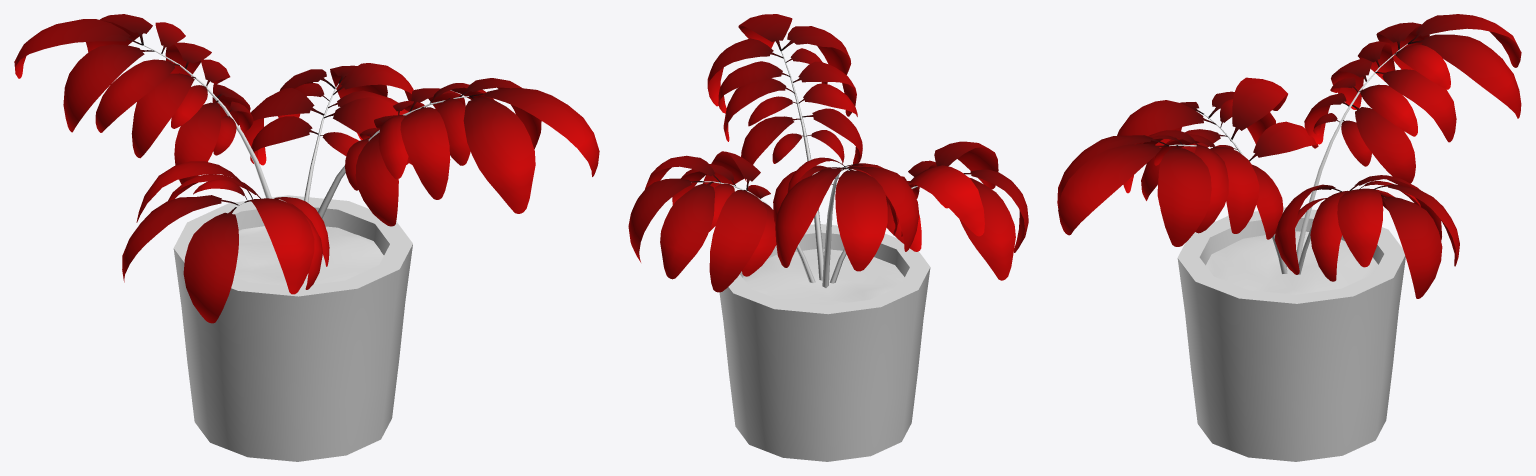
Rendered from Matero.fbx.
3 renders of one model, left to right at view 1: azimuth 30°, elevation 25°; view 2: azimuth 150°, elevation 25°; view 3: azimuth 270°, elevation 25°, orthographic. The views are drawn at different scales.
Visible parts, largest first — view 1: matero, leaf.023, materodirt, leaf, leaf.002, leaf.011, leaf.025, leaf.019, leaf.017, leaf.016, leaf.026, leaf.009 (+20 smaller); view 2: matero, materodirt, leaf.009, leaf.038, leaf.036, leaf.010, leaf.001, leaf.003, roots, leaf.011, leaf.035, leaf.002 (+21 smaller); view 3: matero, materodirt, leaf.019, leaf.024, leaf.010, leaf.035, leaf.037, leaf.013, leaf.012, leaf.030, leaf.003, leaf.002 (+20 smaller).
Part boxes in pixels (left/top/right/bottom): matero: left=173, top=195, right=412, bottom=461; leaf.023: left=463, top=96, right=535, bottom=213; materodirt: left=234, top=226, right=383, bottom=285; leaf: left=183, top=207, right=238, bottom=323; leaf.002: left=244, top=199, right=314, bottom=294; leaf.011: left=63, top=44, right=154, bottom=132; leaf.025: left=400, top=106, right=450, bottom=199; leaf.019: left=470, top=87, right=599, bottom=176; leaf.017: left=131, top=73, right=195, bottom=158; leaf.016: left=95, top=59, right=179, bottom=132; leaf.026: left=355, top=133, right=398, bottom=226; leaf.009: left=14, top=19, right=142, bottom=78; matero: left=719, top=224, right=930, bottom=461; materodirt: left=743, top=249, right=904, bottom=305; leaf.009: left=835, top=169, right=887, bottom=271; leaf.038: left=709, top=190, right=766, bottom=292; leaf.036: left=660, top=181, right=714, bottom=279; leaf.010: left=775, top=167, right=848, bottom=267; leaf.001: left=959, top=178, right=1015, bottom=280; leaf.003: left=909, top=165, right=984, bottom=236; roots: left=691, top=51, right=917, bottom=287; leaf.011: left=848, top=166, right=919, bottom=251; leaf.035: left=628, top=178, right=704, bottom=262; leaf.002: left=934, top=141, right=998, bottom=189; matero: left=1177, top=207, right=1405, bottom=461; materodirt: left=1206, top=231, right=1378, bottom=294; leaf.019: left=1058, top=143, right=1169, bottom=235; leaf.024: left=1158, top=145, right=1211, bottom=246; leaf.010: left=1408, top=34, right=1521, bottom=118; leaf.035: left=1381, top=195, right=1442, bottom=298; leaf.037: left=1337, top=188, right=1383, bottom=267; leaf.013: left=1352, top=105, right=1415, bottom=183; leaf.012: left=1375, top=69, right=1456, bottom=142; leaf.030: left=1210, top=147, right=1259, bottom=233; leaf.003: left=1230, top=77, right=1287, bottom=141; leaf.002: left=1117, top=100, right=1215, bottom=144.
Bounding box in the file's own units: 84.77 × 76.23 × 92.67.
